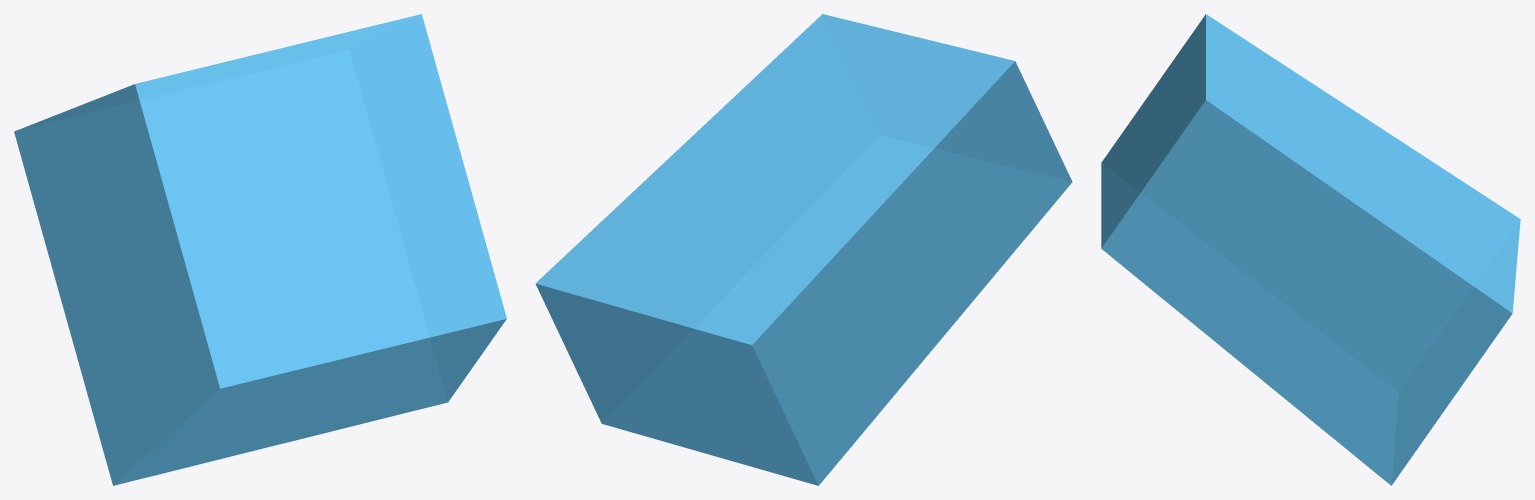
Rendered from Event_420107950_HBrechit_18.fbx.
The picture shows the model from 3 angles, left to right: view 1: azimuth 30°, elevation 25°; view 2: azimuth 150°, elevation 25°; view 3: azimuth 270°, elevation 25°; orthographic projection. The views are drawn at different scales.
Parts seen in each view (by area): view 1: Model; view 2: Model; view 3: Model.
Part boxes in pixels (x1,y1,x2,y2): Model: [14, 14, 506, 485]; Model: [535, 14, 1072, 485]; Model: [1101, 14, 1520, 485].
Bounding box in the file's own units: 0.6789 × 0.7688 × 0.8652.
